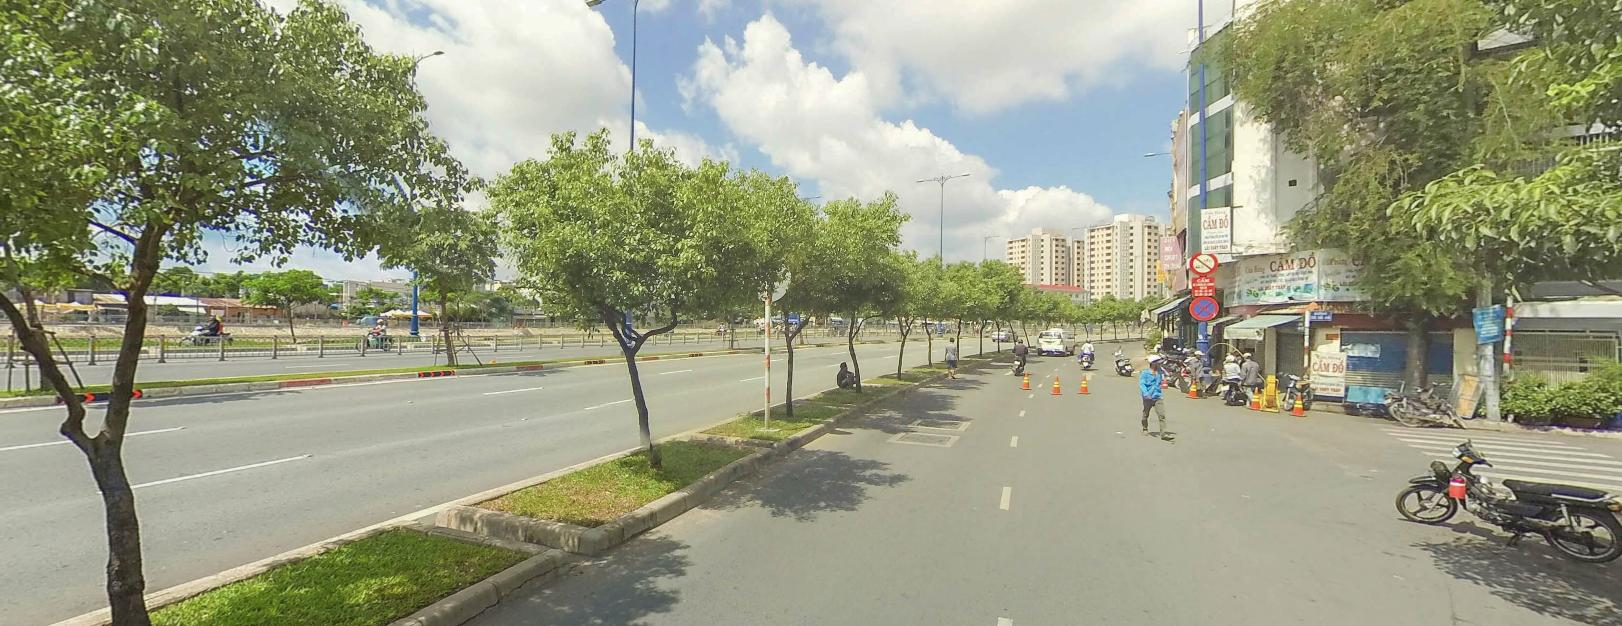Cam con lai: (1189, 250, 1217, 273)
Cam dung va do: (1188, 295, 1218, 319)
